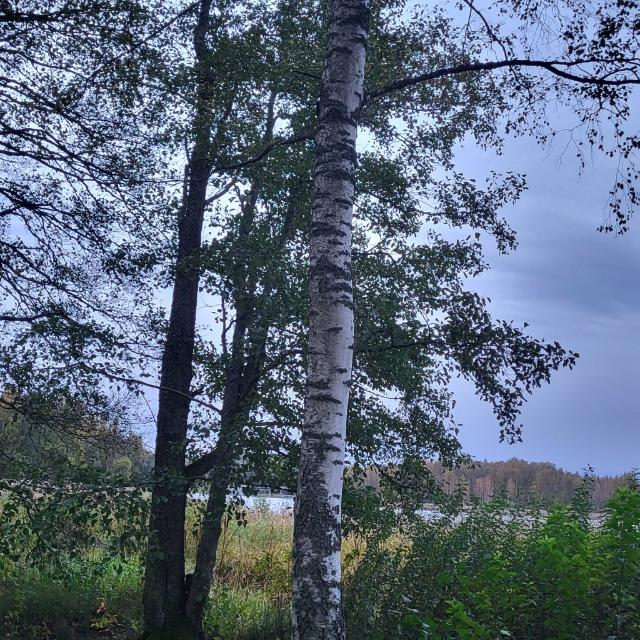birch: (251, 0, 401, 640)
